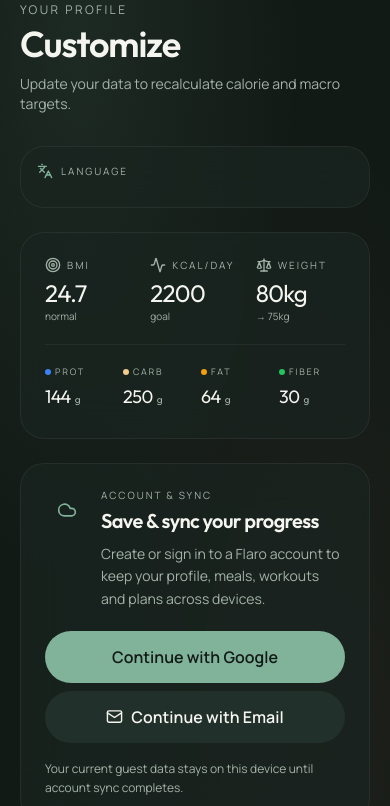
Scenario: ProfilePage Account & Sync section › opens the shared EmailAuthDialog without changing guest storage
Click the button with test id "profile-account-email": [195, 717] box [45,691,345,743]
(page scrolled)
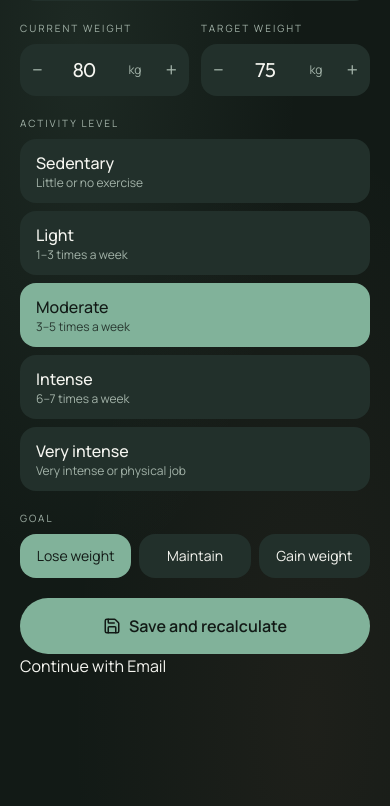
Now the text "Continue with Email" is shown, box [20,655,166,677]
